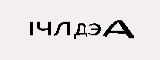И: (86, 18, 105, 44)
Р: (38, 15, 51, 39)
Т: (104, 22, 125, 44)
Ю: (65, 17, 83, 42)
Я: (51, 17, 66, 42)
